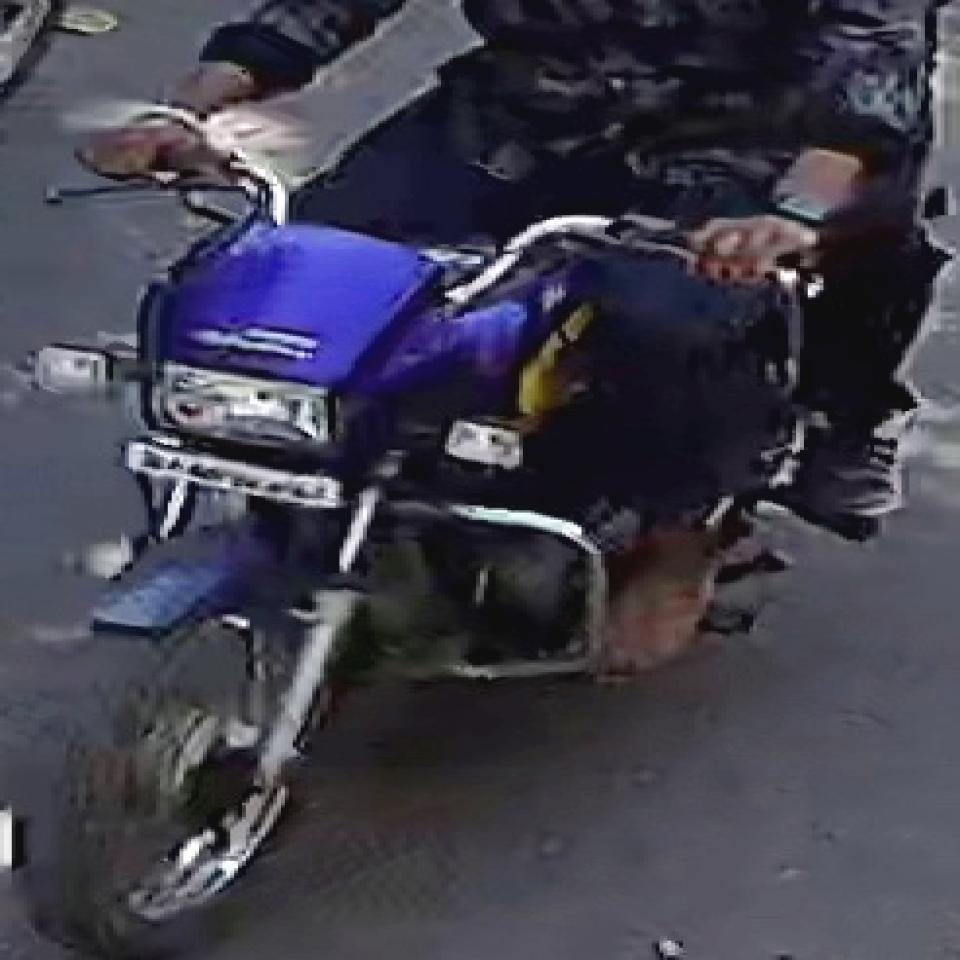head_light: (144, 358, 336, 451)
